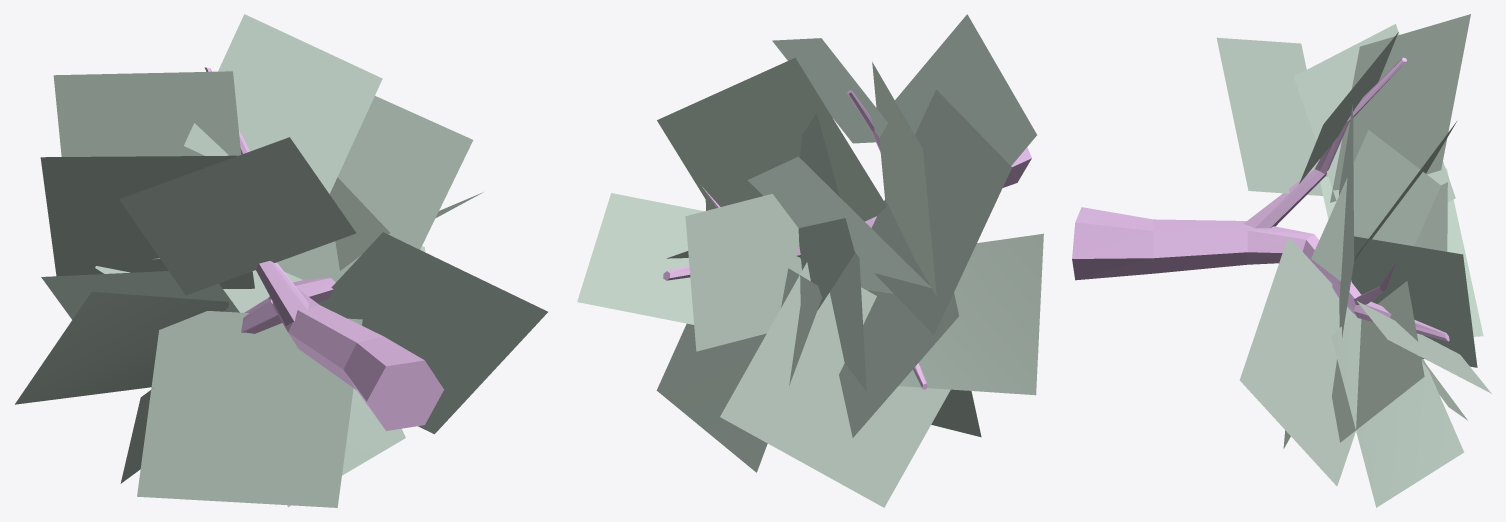
3 renders of one model, left to right at view 1: azimuth 30°, elevation 25°; view 2: azimuth 150°, elevation 25°; view 3: azimuth 270°, elevation 25°, orthographic. The views are drawn at different scales.
Parts seen in each view (by area): view 1: Object27; view 2: Object27; view 3: Object27.
Boxes of the visible parts, x1,y1,x2,y2 form: Object27: (15,14,547,507); Object27: (577,14,1043,507); Object27: (1072,14,1491,507).
Size of the model in its own units: 49533 by 47394 by 43180.
